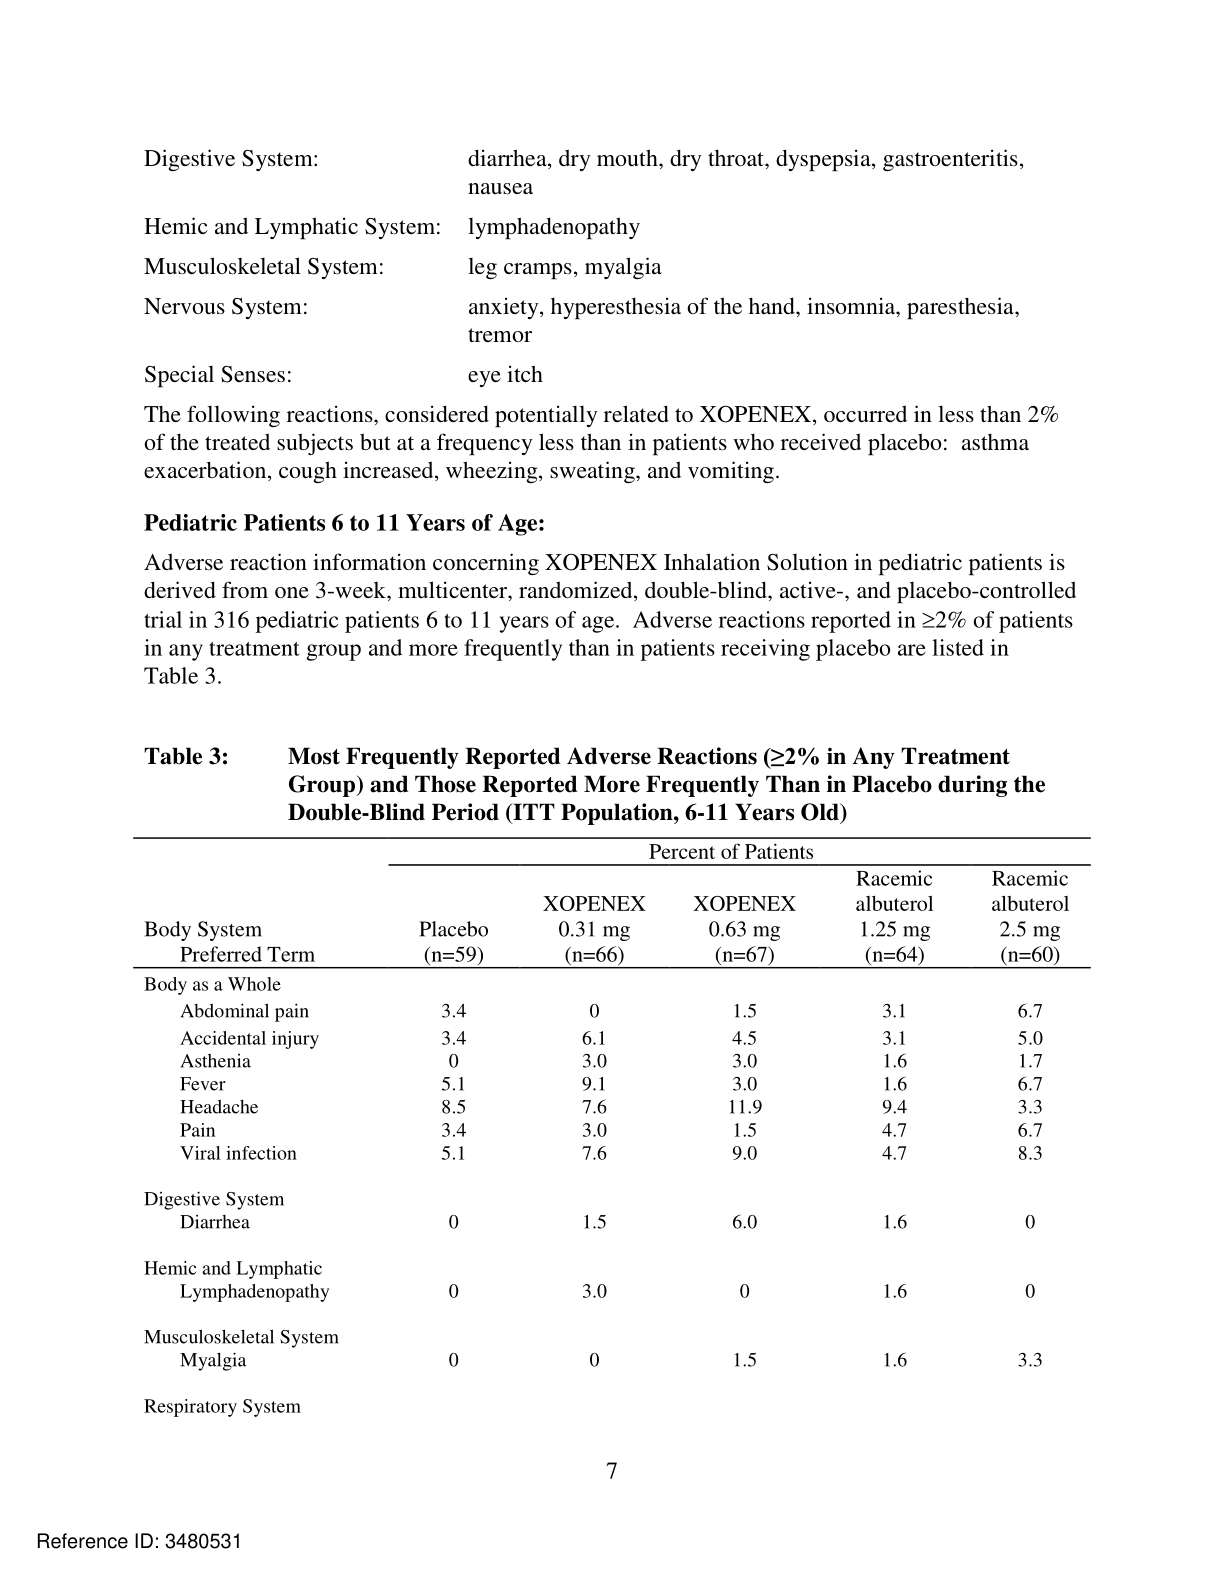nolines: (138, 141, 1025, 386)
partial_lined: (131, 834, 1092, 1372)
